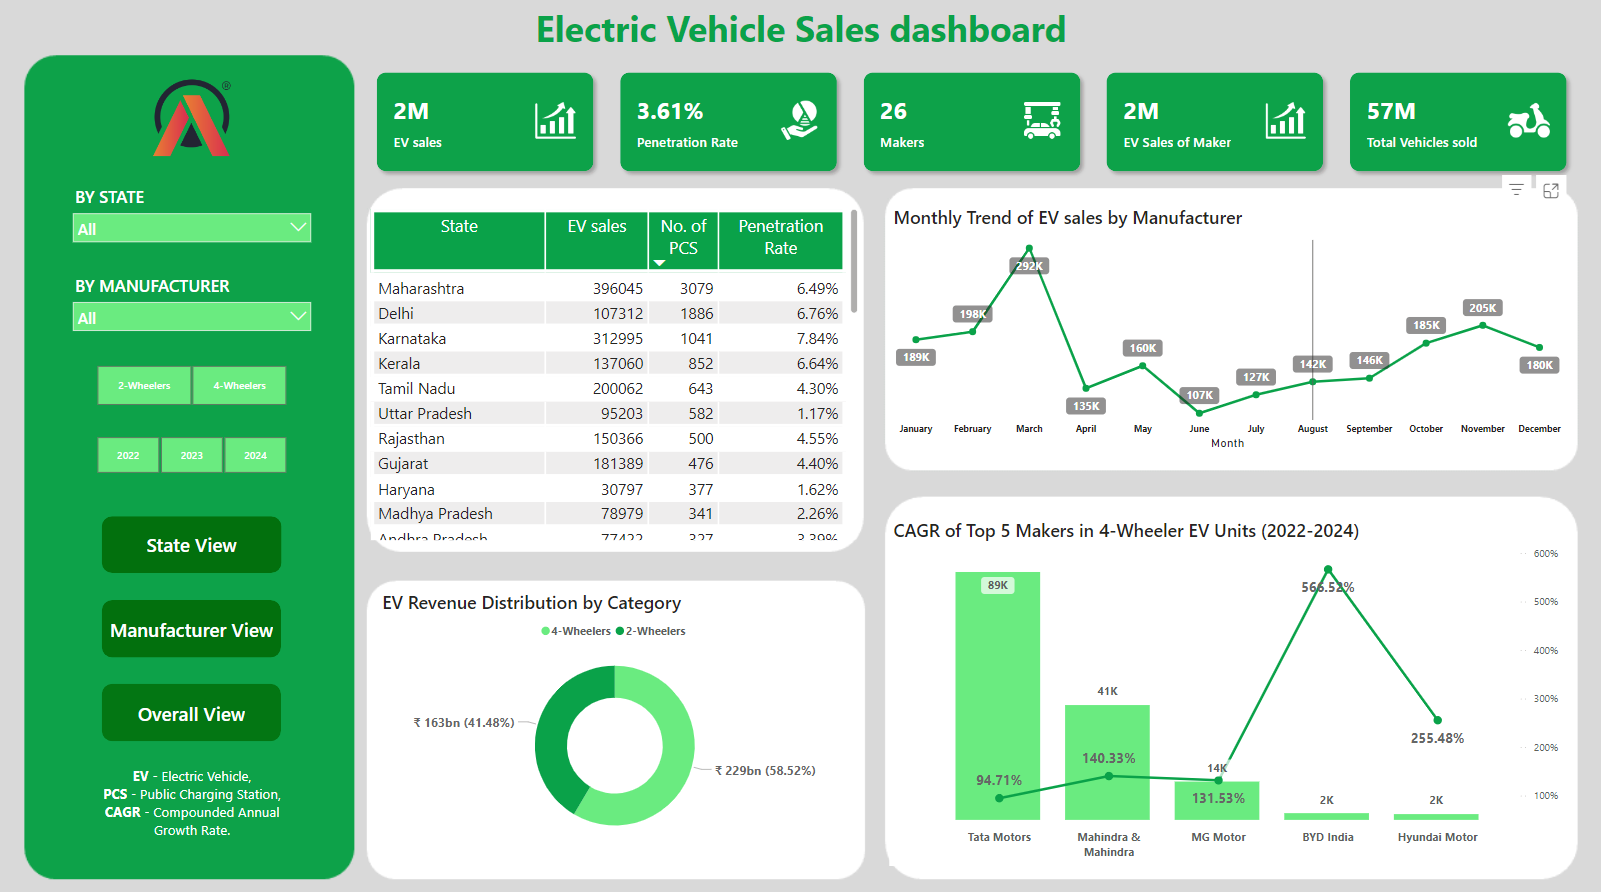

This screenshot's page, from the dashboard's own definition file:
{"tool":"powerbi","page":{"name":"Overall View","canvas":[1920,1080],"ordinal":3},"visuals":[{"type":"cardVisual","fields":{"Data":["Key_Measures.Total EVs sales","Key_Measures.Penetration Rate","Key_Measures.Total Makers","Key_Measures.Total EVs Sold by Makers","Key_Measures.Total Vehicle sold by state"]},"box":[440.5,80.4,1450.5,142.4],"z":0},{"type":"image","box":[177.5,94.8,108.9,103.8],"z":1000},{"type":"lineChart","title":"Monthly Trend of EV sales by Manufacturer","fields":{"Category":["dim_date.date.Variation.Date Hierarchy.Month"],"Y":["Key_Measures.Total EVs Sold by Makers"]},"box":[1065.7,251.2,811,298.3],"z":2000},{"type":"slicer","fields":{"Values":["dim_state.state"]},"box":[78.7,222.1,304.8,88.8],"z":3000},{"type":"slicer","fields":{"Values":["Electric_Vehicle_Sales_by_Makers.maker"]},"box":[78.7,329.3,304.8,88.8],"z":4000},{"type":"slicer","fields":{"Values":["dim_vehicle_category.vehicle_category"]},"box":[93,436.5,276.4,60.3],"z":5000},{"type":"slicer","fields":{"Values":["dim_date.fiscal_year"]},"box":[93,521.9,276.4,56.9],"z":6000},{"type":"lineClusteredColumnComboChart","title":"CAGR of Top 5 Makers in 4-Wheeler EV Units (2022-2024)","fields":{"Category":["Electric_Vehicle_Sales_by_Makers.maker"],"Y":["Key_Measures.Total 4-wheeler EVs sold"],"Y2":["Key_Measures.CAGR for 4-Wheelers EVs"]},"box":[1065.7,624.4,811,416.9],"z":7000},{"type":"donutChart","title":"EV Revenue Distribution by Category","fields":{"Category":["dim_vehicle_category.vehicle_category"],"Y":["Key_Measures.Total EVs Revenue"]},"box":[455.2,711.6,566.9,314],"z":8000},{"type":"tableEx","fields":{"Values":["dim_state.state","Key_Measures.Total EVs sales","states and their pcs count.PCS","Key_Measures.Penetration Rate"]},"box":[439.9,251.8,593.8,405.7],"z":9000},{"type":"actionButton","box":[124,623.8,215,68],"z":10000},{"type":"actionButton","box":[124.3,723.1,214.4,68.7],"z":11000},{"type":"actionButton","box":[124.3,823.1,214.4,68.7],"z":12000},{"type":"textbox","box":[104.1,918.7,254.9,107.3],"z":13000},{"type":"textbox","box":[577.9,5,763.8,77],"z":14000}]}

Visuals, with their boxes in screenshot pixels (x1, y1, x2, y2), scaled from the page's 1920x1080 canvas onto the 1601x892 screenshot:
cardVisual - Key_Measures.Total EVs sales x Key_Measures.Penetration Rate: box(367, 66, 1577, 184)
image: box(148, 78, 239, 164)
"Monthly Trend of EV sales by Manufacturer" lineChart: box(889, 207, 1565, 454)
slicer - dim_state.state: box(66, 183, 320, 257)
slicer - Electric_Vehicle_Sales_by_Makers.maker: box(66, 272, 320, 345)
slicer - dim_vehicle_category.vehicle_category: box(78, 361, 308, 410)
slicer - dim_date.fiscal_year: box(78, 431, 308, 478)
"CAGR of Top 5 Makers in 4-Wheeler EV Units (2022-2024)" lineClusteredColumnComboChart: box(889, 516, 1565, 860)
"EV Revenue Distribution by Category" donutChart: box(380, 588, 852, 847)
tableEx - dim_state.state x Key_Measures.Total EVs sales: box(367, 208, 862, 543)
actionButton: box(103, 515, 283, 571)
actionButton: box(104, 597, 282, 654)
actionButton: box(104, 680, 282, 737)
textbox: box(87, 759, 299, 847)
textbox: box(482, 4, 1119, 68)
